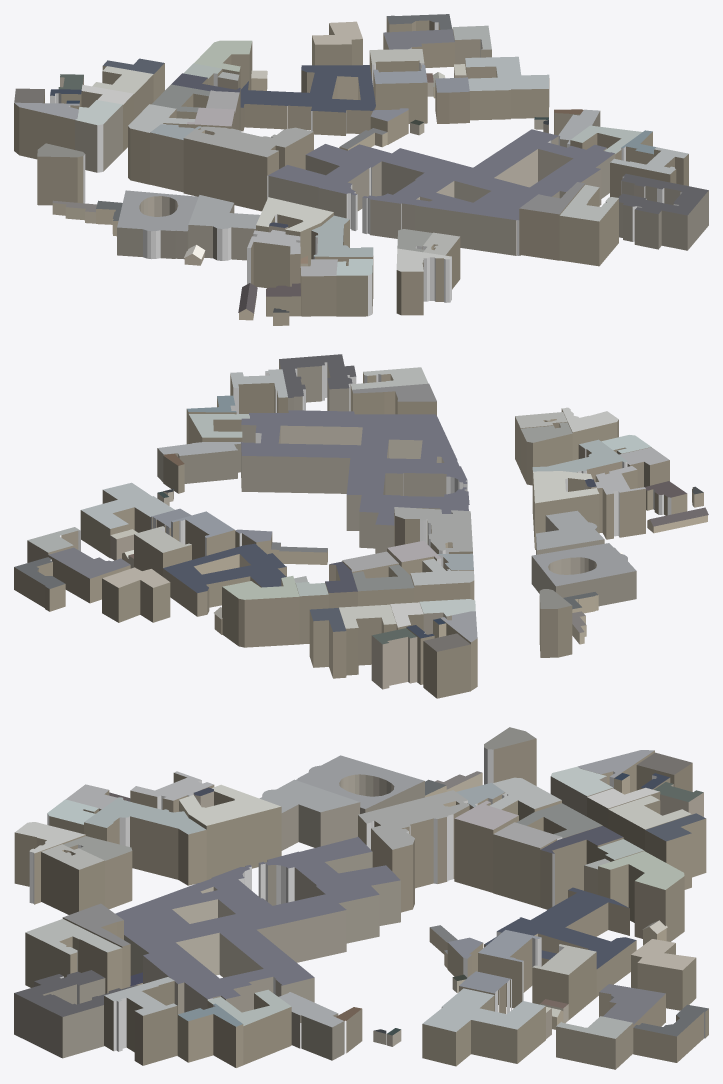
3 renders of one model, top to bottom at view 1: azimuth 30°, elevation 25°; view 2: azimuth 150°, elevation 25°; view 3: azimuth 270°, elevation 25°, orthographic. The views are drawn at different scales.
Visible parts, largest first — view 1: tuile; view 2: tuile; view 3: tuile.
Part boxes in pixels (box(x1,y1,x2,y2)): tuile: box(14, 14, 708, 325); tuile: box(14, 354, 708, 698); tuile: box(14, 727, 708, 1069).
Bounding box in the file's own units: 266 × 29.08 × 273.
